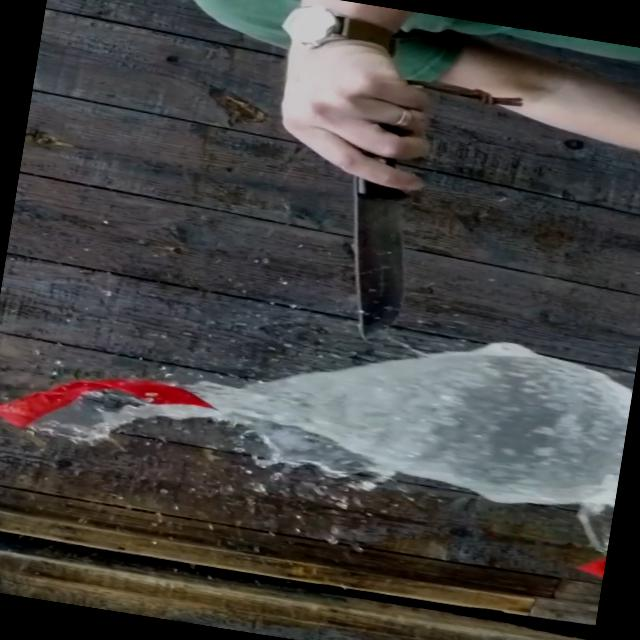knife: (232, 86, 448, 354)
